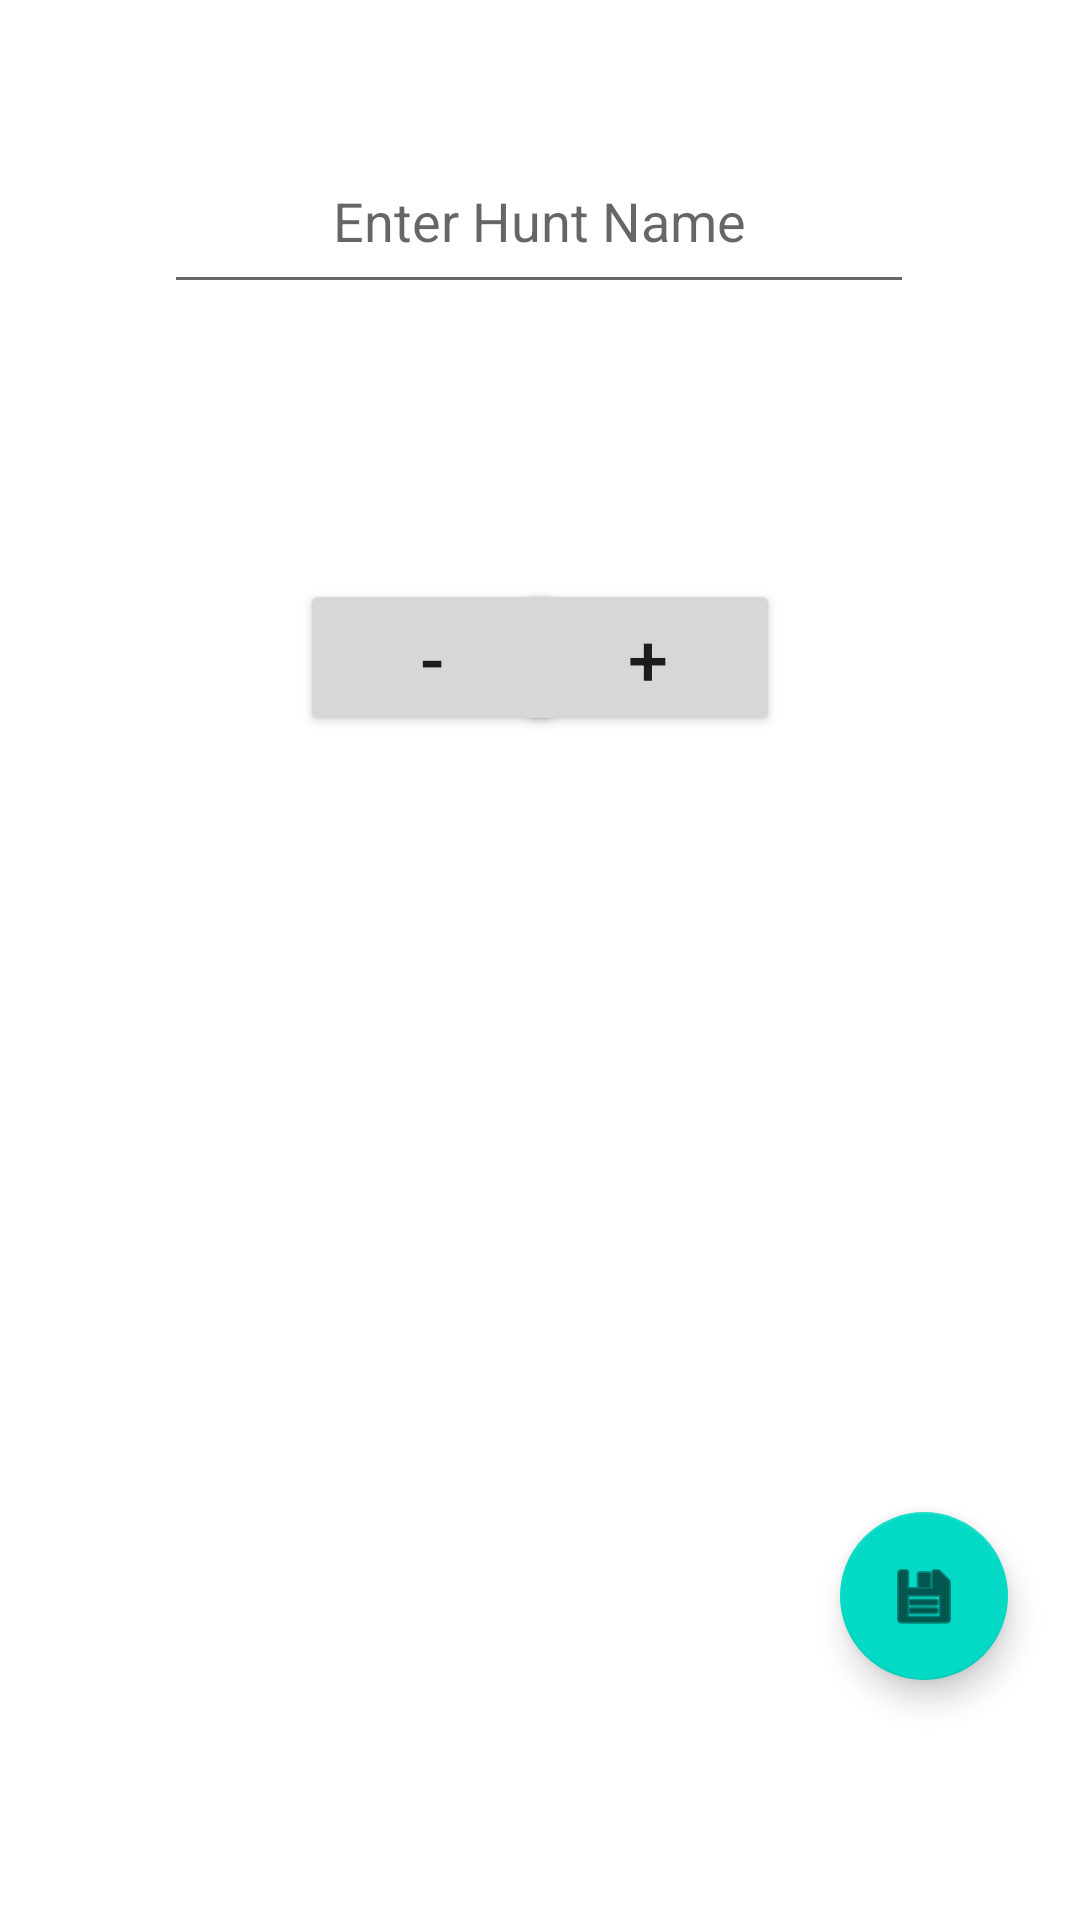

Locate icon controls on the screen. Image size 1080px×1920px, boxes as [x1,y1,x2,y2].
Save Button: [840,1512,1008,1680]
